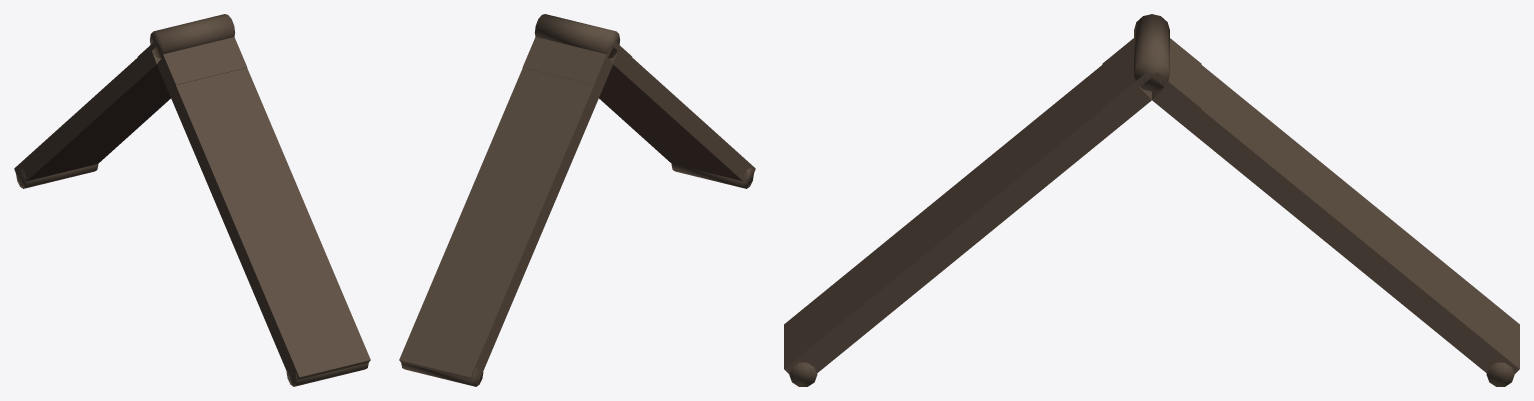
Rendered from kit_timber_thatch_w6.glb.
The picture shows the model from 3 angles, left to right: view 1: azimuth 30°, elevation 25°; view 2: azimuth 150°, elevation 25°; view 3: azimuth 270°, elevation 25°; orthographic projection. The views are drawn at different scales.
Parts seen in each view (by area): view 1: kit_timber_thatch_w6; view 2: kit_timber_thatch_w6; view 3: kit_timber_thatch_w6.
Boxes of the visible parts, box(x1,y1,x2,y2) form: kit_timber_thatch_w6: box(14, 14, 370, 386); kit_timber_thatch_w6: box(399, 14, 755, 386); kit_timber_thatch_w6: box(784, 14, 1519, 386).
Size of the model in its own units: 1 by 3.41 by 6.92.
